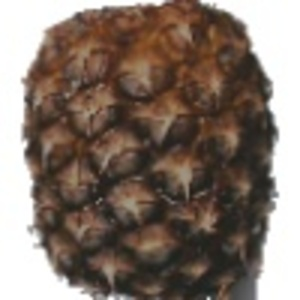abacaxi: (16, 1, 282, 299)
